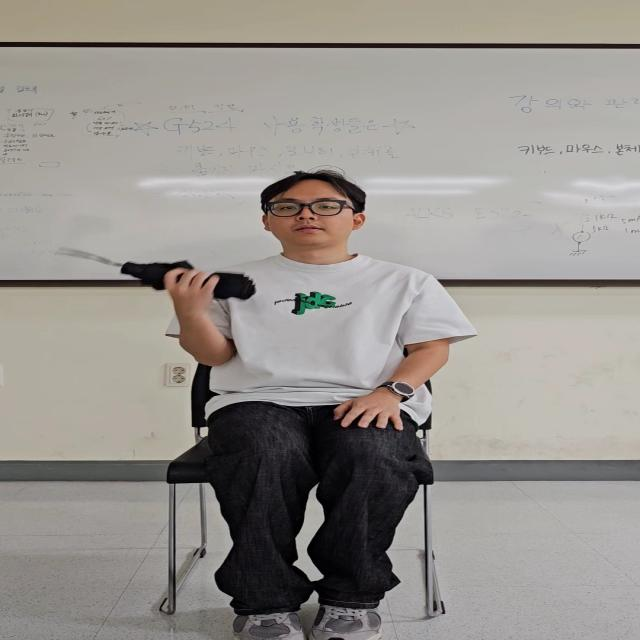curl: (140, 264, 238, 374)
